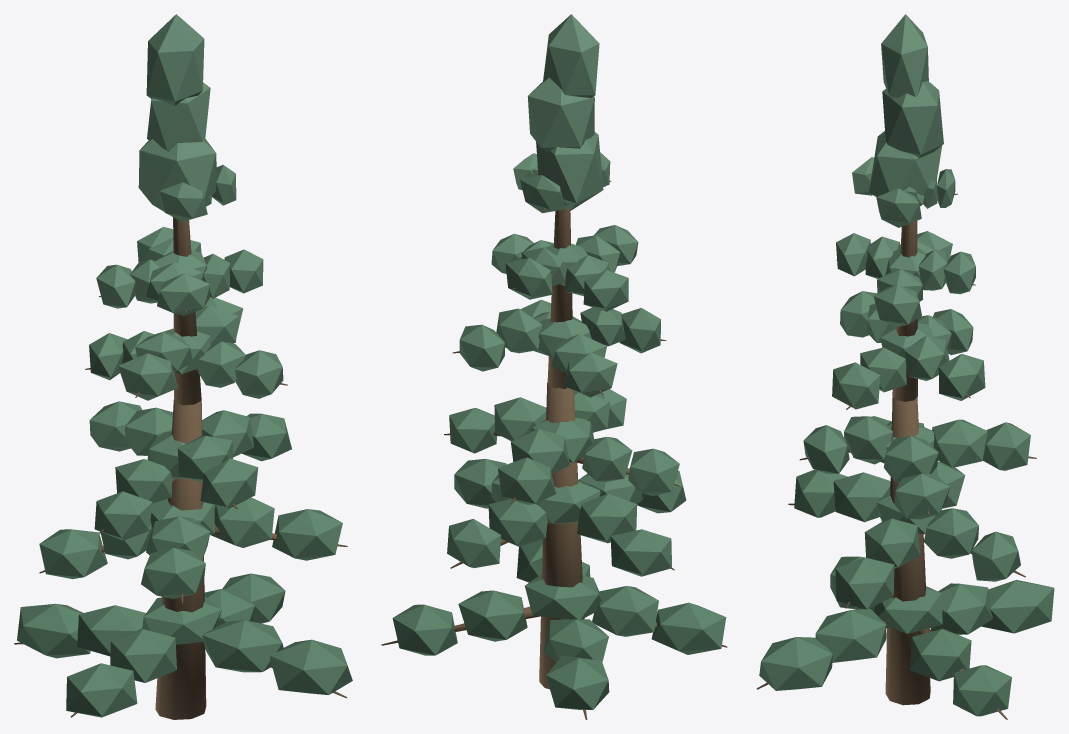
The model's file is spruce_a.glb.
3 renders of one model, left to right at view 1: azimuth 30°, elevation 25°; view 2: azimuth 150°, elevation 25°; view 3: azimuth 270°, elevation 25°, orthographic. The views are drawn at different scales.
Parts seen in each view (by area): view 1: spruce_a; view 2: spruce_a; view 3: spruce_a.
Boxes of the visible parts, x1,y1,x2,y2 form: spruce_a: [14, 14, 352, 719]; spruce_a: [381, 14, 727, 719]; spruce_a: [756, 14, 1054, 719].
Size of the model in its own units: 5.8 by 13.8 by 5.5.
